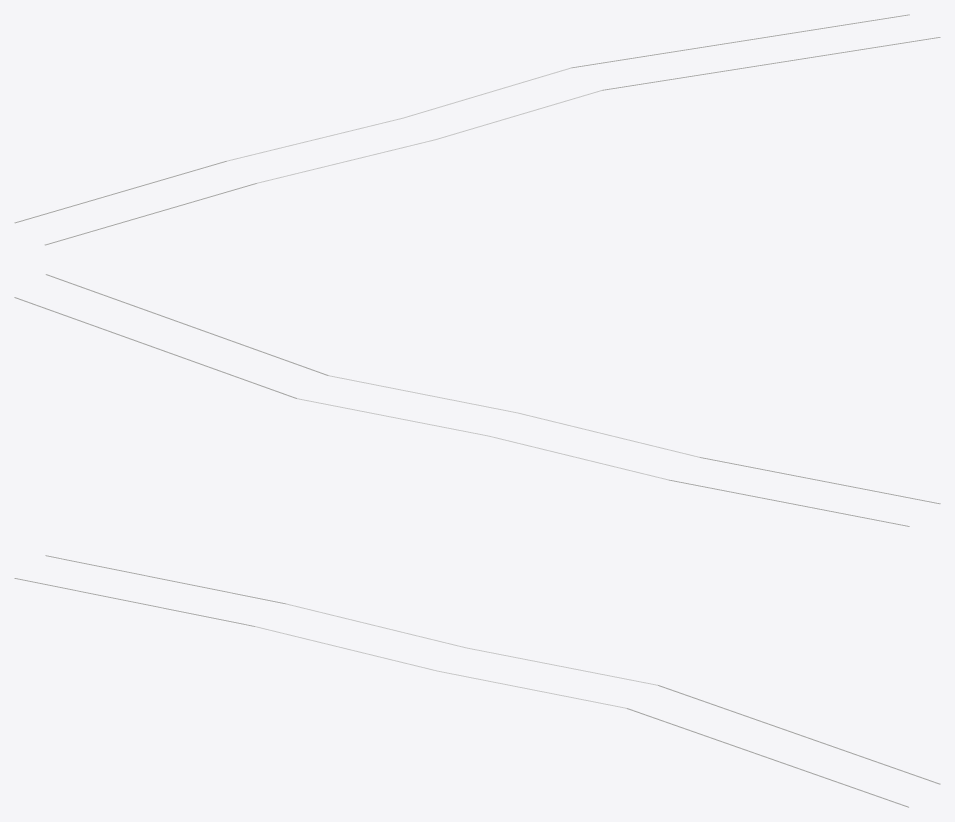
The model's file is kd_stage_13612f_0_30.glb.
The picture shows the model from 3 angles, top to bottom: view 1: azimuth 30°, elevation 25°; view 2: azimuth 150°, elevation 25°; view 3: azimuth 330°, elevation 25°; orthographic projection. The views are drawn at different scales.
Visible parts, largest first — view 1: kd_stage_13612f_0_30; view 2: kd_stage_13612f_0_30; view 3: kd_stage_13612f_0_30.
Boxes of the visible parts, bbox=[...] form: kd_stage_13612f_0_30: bbox=[14, 14, 940, 245]; kd_stage_13612f_0_30: bbox=[14, 274, 940, 526]; kd_stage_13612f_0_30: bbox=[14, 555, 940, 807].
Bounding box in the file's own units: 105 × 0.1235 × 12.91.
1 material, 1 textured.
